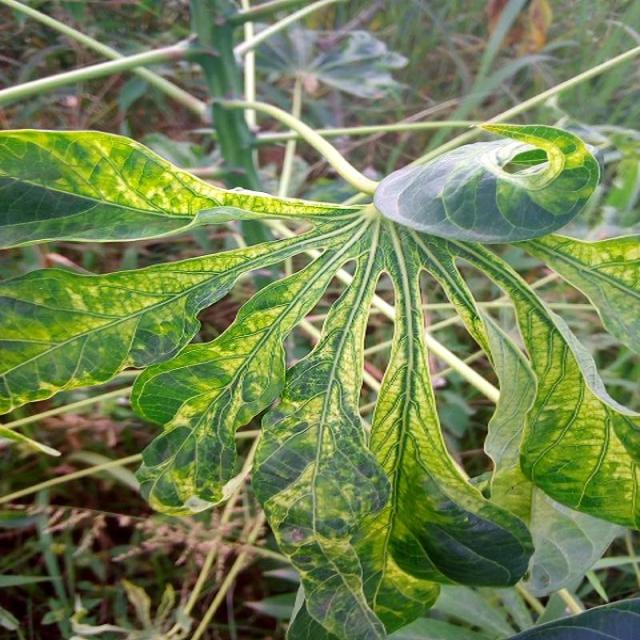cassava leaf: (1, 107, 638, 638), (372, 121, 601, 244)
